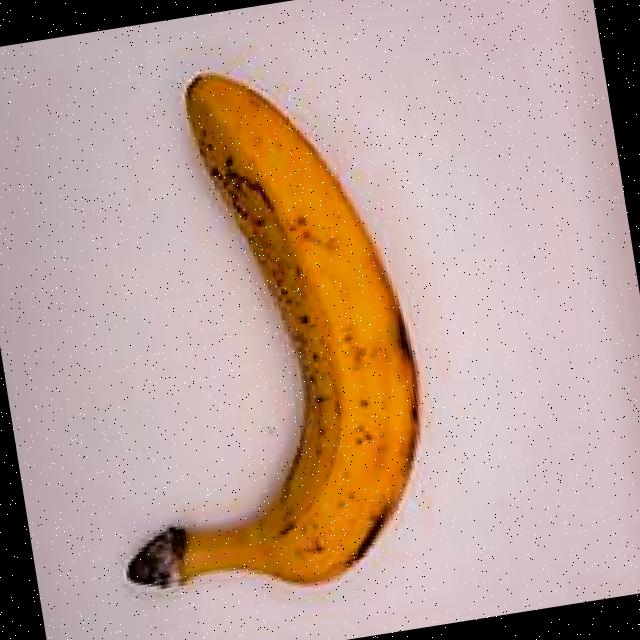Overripe: (35, 25, 493, 640)
